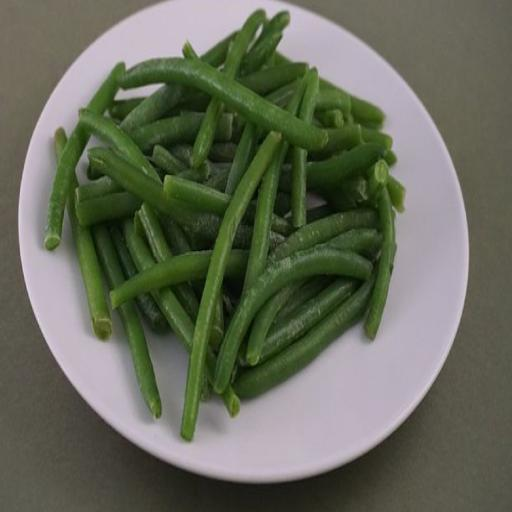buncis_rebus: (36, 4, 422, 453)
